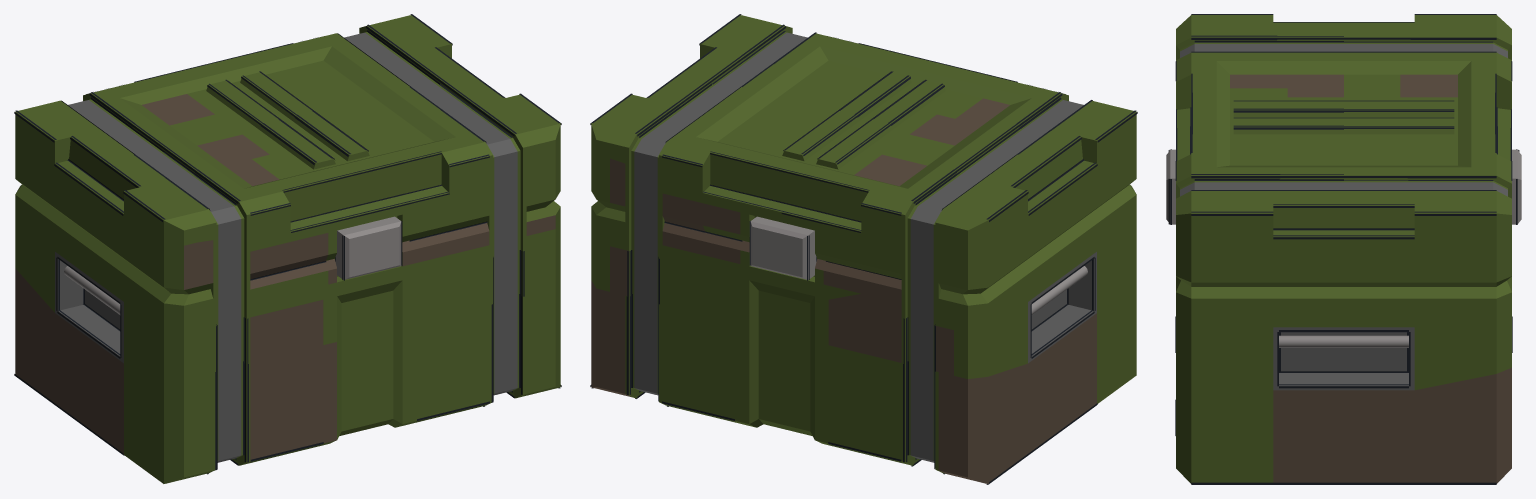
File: chest.glb
3 renders of one model, left to right at view 1: azimuth 30°, elevation 25°; view 2: azimuth 150°, elevation 25°; view 3: azimuth 270°, elevation 25°, orthographic. The views are drawn at different scales.
Parts seen in each view (by area): view 1: Chest, Chest_StructuralInk; view 2: Chest, Chest_StructuralInk; view 3: Chest, Chest_StructuralInk.
Part boxes in pixels (x1,y1,x2,y2): Chest: (15,15,560,483); Chest_StructuralInk: (14,14,561,474); Chest: (591,15,1136,483); Chest_StructuralInk: (590,14,1137,484); Chest: (1166,15,1521,483); Chest_StructuralInk: (1168,14,1519,484).
Size of the model in its own units: 0.642 by 0.4086 by 0.4829.
2 materials, 1 textured.
